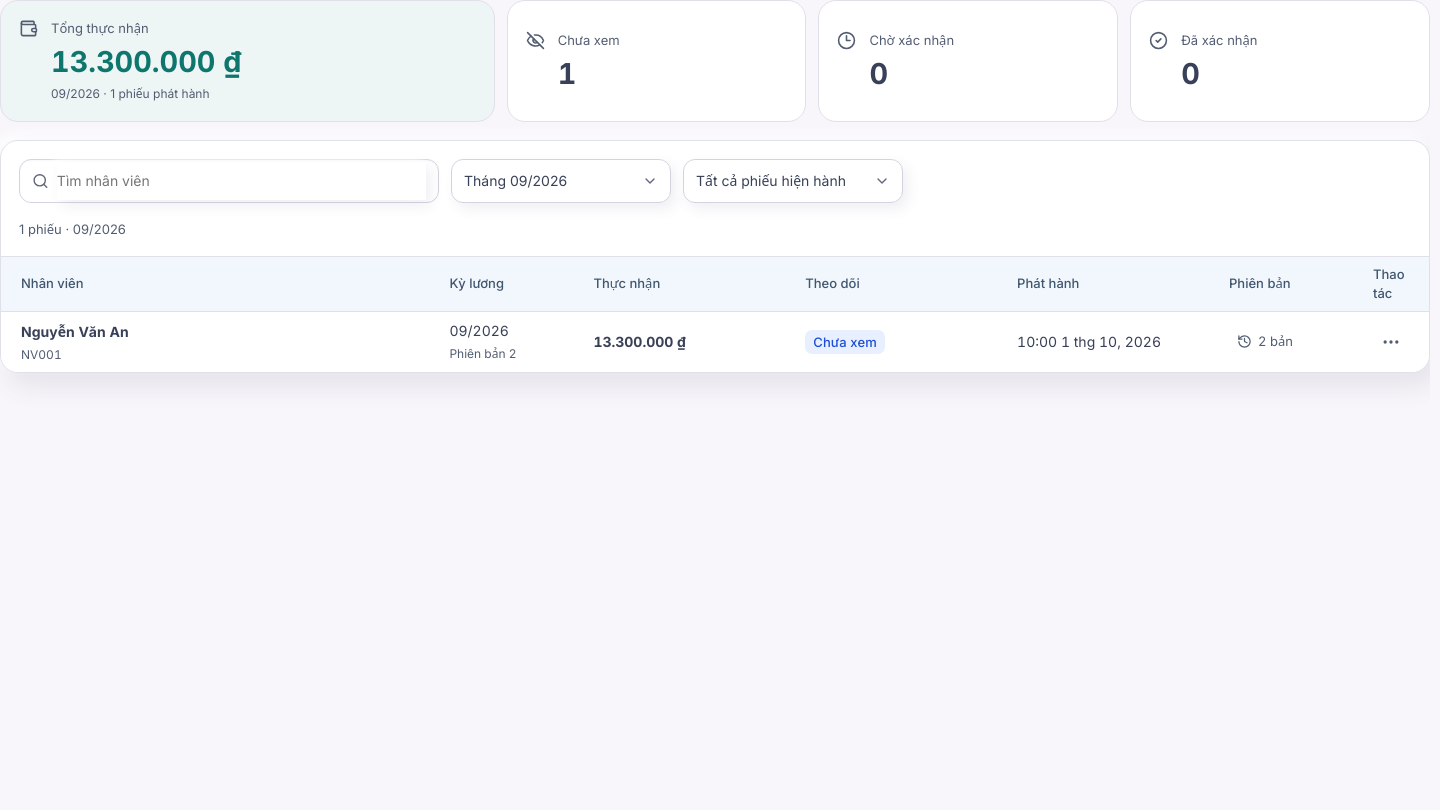
it: payslip worklist › keeps revoked versions available in a separate history drawer
The image size is (1440, 810).
Click the button "2 bản": (1265, 342) top-left (1229, 320), bottom-right (1301, 364)
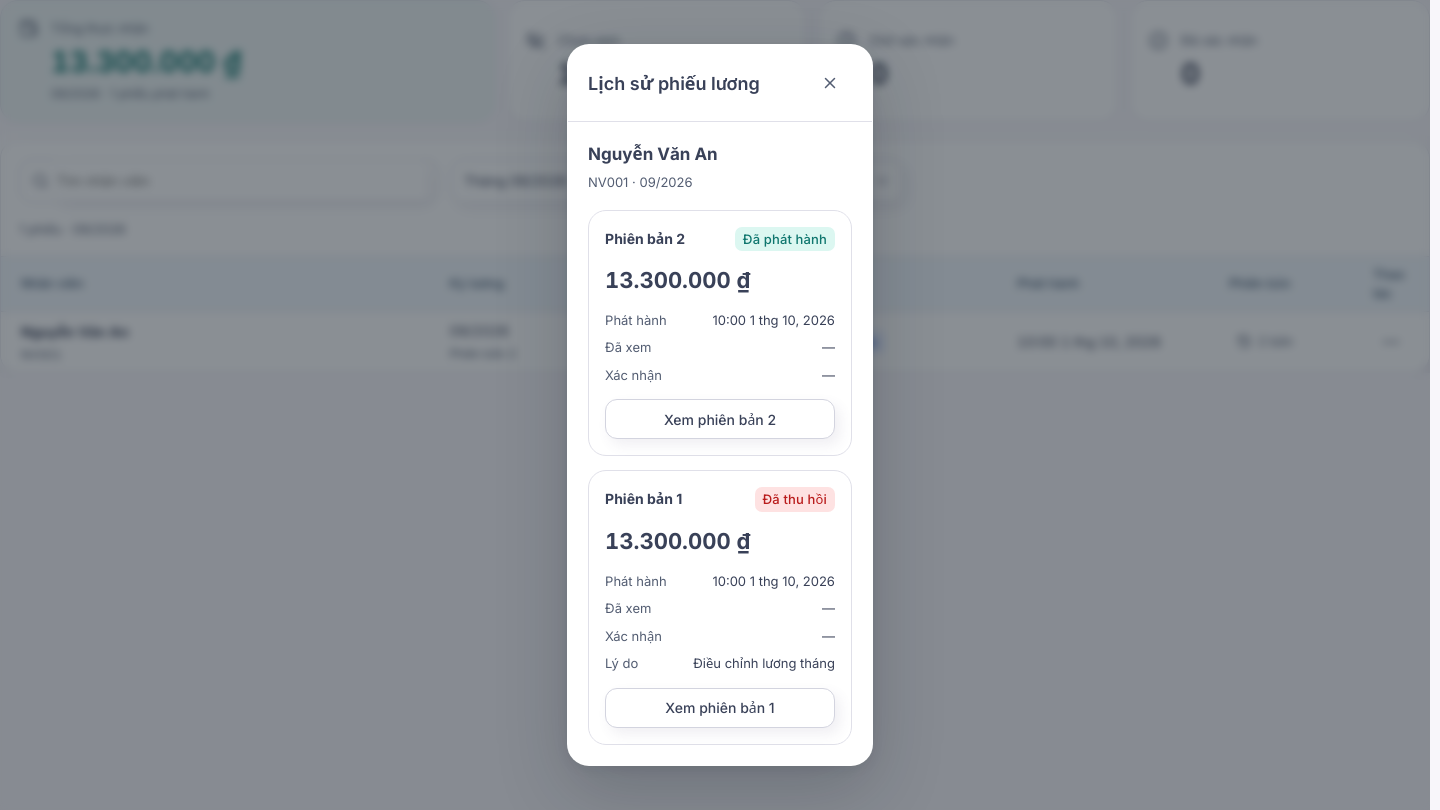
Result: the text "Phiên bản 1" is shown at top-left (605, 490), bottom-right (682, 510)
Result: the text "Phiên bản 2" is shown at top-left (605, 229), bottom-right (685, 249)
Result: the text "Điều chỉnh lương tháng" is shown at top-left (693, 654), bottom-right (835, 674)
